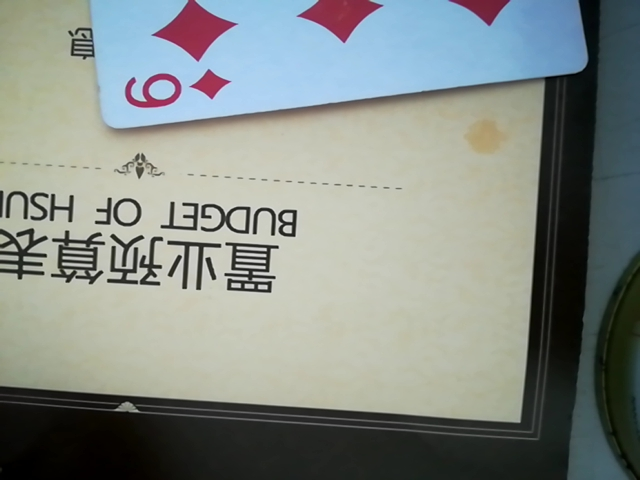fk 6: (72, 0, 588, 133)
